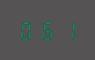one: (57, 20, 75, 40)
six: (38, 20, 56, 40)
zero: (18, 20, 36, 40)
